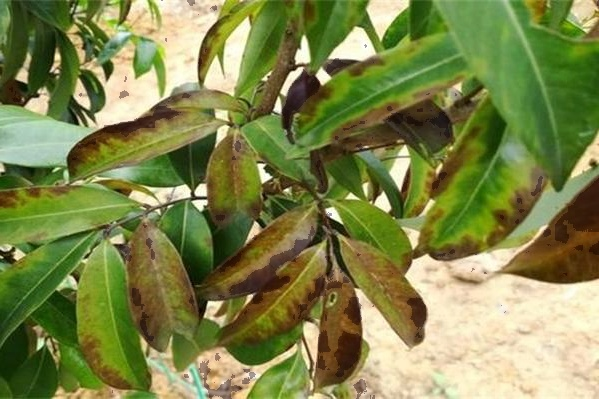Frost_Blight: (239, 201, 389, 366), (417, 168, 599, 289), (71, 68, 242, 183), (89, 242, 182, 396), (322, 81, 418, 169)
